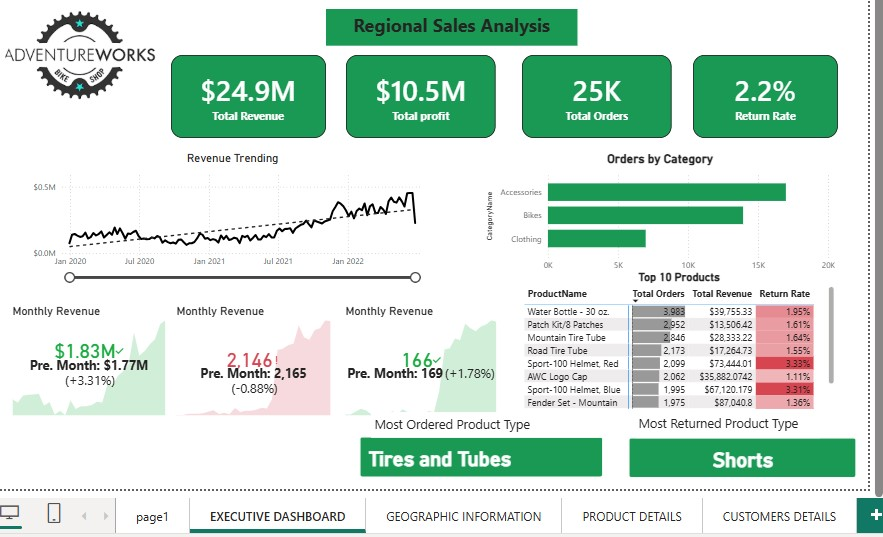

This screenshot's page, from the dashboard's own definition file:
{"tool":"powerbi","page":{"name":"EXECUTIVE DASHBOARD","canvas":[1280,720],"ordinal":1},"visuals":[{"type":"cardVisual","fields":{"Data":["Measure Table.Total Revenue"]},"box":[358.1,37.8,272.8,136.4],"z":0},{"type":"image","box":[0,13.4,267.9,136.4],"z":1000},{"type":"textbox","box":[482.7,13,369.6,53.6],"z":2000},{"type":"cardVisual","fields":{"Data":["Measure Table.Total Revenue"]},"box":[254.3,81.4,227.7,121.8],"z":3000,"group":"g1"},{"type":"lineChart","title":"Revenue Trending","fields":{"Category":["Calendar Lookup.Date Hierarchy.Start of Week","Calendar Lookup.Date Hierarchy.Start of Month","Calendar Lookup.Date Hierarchy.Start of Quarter","Calendar Lookup.Date Hierarchy.Year"],"Y":["Measure Table.Total Revenue"]},"box":[47.3,221.7,595.7,196.6],"z":3000},{"type":"cardVisual","fields":{"Data":["Measure Table.Total profit"]},"box":[512.5,81.4,220.4,121.8],"z":4000,"group":"g1"},{"type":"clusteredBarChart","title":"Orders by Category","fields":{"Category":["Product Categories Lookup.CategoryName"],"Y":["Measure Table.Total Orders"]},"box":[711.4,221.4,524.3,185.7],"z":4000},{"type":"cardVisual","fields":{"Data":["Measure Table.Total Orders"]},"box":[770.7,81.4,220.4,121.8],"z":5000,"group":"g1"},{"type":"kpi","title":"Monthly Revenue","fields":{"Goal":["Measure Table.Previous Month Revenue"],"Indicator":["Measure Table.Total Revenue"],"TrendLine":["Calendar Lookup.Date Hierarchy.Start of Month"]},"box":[16.2,447.3,235.4,169.2],"z":5000},{"type":"cardVisual","fields":{"Data":["Measure Table.Return Rate"]},"box":[1022.8,81.4,213.1,121.8],"z":6000,"group":"g1"},{"type":"kpi","title":"Monthly Revenue","fields":{"Goal":["Measure Table.Previous Month Orders"],"Indicator":["Measure Table.Total Orders"],"TrendLine":["Calendar Lookup.Date Hierarchy.Start of Month"]},"box":[257.5,447.3,236.9,169.2],"z":6000},{"type":"kpi","title":"Monthly Revenue","fields":{"Goal":["Measure Table.Previous Month Return"],"Indicator":["Measure Table.Total returned"],"TrendLine":["Calendar Lookup.Date Hierarchy.Start of Month"]},"box":[506.1,447.3,232.5,169.2],"z":7000},{"type":"pivotTable","title":"Top 10 Products","fields":{"Rows":["Product Lookup.ProductName"],"Values":["Measure Table.Total Orders","Measure Table.Total Revenue","Measure Table.Return Rate"]},"box":[769.5,397.2,465.7,208.6],"z":8000},{"type":"cardVisual","fields":{"Data":["Min(Product Subcategories Lookup.SubcategoryName)"]},"box":[514.9,625.3,392.8,94.2],"z":9000},{"type":"cardVisual","fields":{"Data":["Min(Product Subcategories Lookup.SubcategoryName)"]},"box":[910.7,626.8,369.3,93.4],"z":10000},{"type":"textbox","box":[548.8,606.2,348.7,38.3],"z":11000},{"type":"textbox","box":[937.2,604.7,272.2,39.7],"z":12000},{"type":"group","id":"g1","title":"Group 1","box":[254.3,81.4,981.6,121.8],"z":13000}]}

Visuals, with their boxes on the page's 1280x720 design canvas (x1, y1, x2, y2). These are canvas units, not pixel positions in the 883x537 screenshot, which may show the page scaled, cropped or inside an application window:
cardVisual - Measure Table.Total Revenue: [358, 38, 631, 174]
image: [0, 13, 268, 150]
textbox: [483, 13, 852, 67]
cardVisual - Measure Table.Total Revenue: [254, 81, 482, 203]
"Revenue Trending" lineChart: [47, 222, 643, 418]
cardVisual - Measure Table.Total profit: [512, 81, 733, 203]
"Orders by Category" clusteredBarChart: [711, 221, 1236, 407]
cardVisual - Measure Table.Total Orders: [771, 81, 991, 203]
"Monthly Revenue" kpi: [16, 447, 252, 616]
cardVisual - Measure Table.Return Rate: [1023, 81, 1236, 203]
"Monthly Revenue" kpi: [258, 447, 494, 616]
"Monthly Revenue" kpi: [506, 447, 739, 616]
"Top 10 Products" pivotTable: [770, 397, 1235, 606]
cardVisual - Min(Product Subcategories Lookup.SubcategoryName): [515, 625, 908, 720]
cardVisual - Min(Product Subcategories Lookup.SubcategoryName): [911, 627, 1280, 720]
textbox: [549, 606, 898, 644]
textbox: [937, 605, 1209, 644]
"Group 1" group: [254, 81, 1236, 203]
